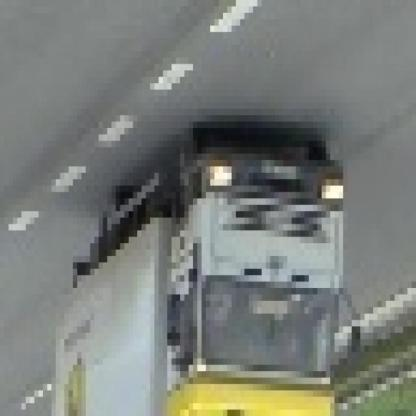truck: (62, 142, 366, 416)
